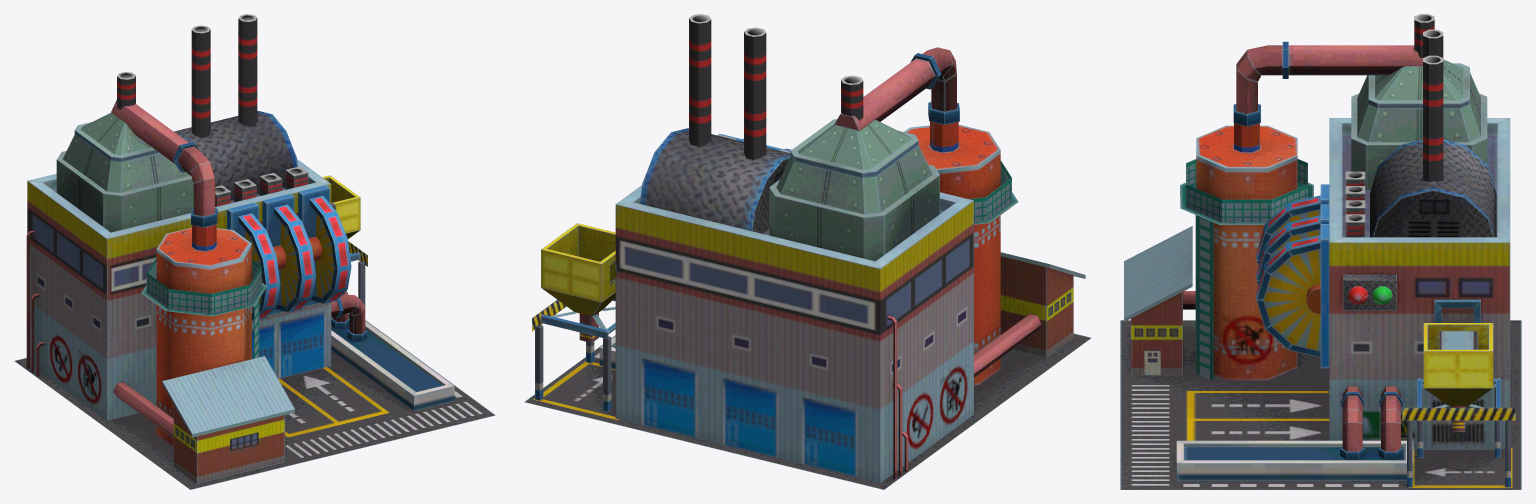
The model's file is shuinichang.FBX.
3 renders of one model, left to right at view 1: azimuth 30°, elevation 25°; view 2: azimuth 150°, elevation 25°; view 3: azimuth 270°, elevation 25°, orthographic. The views are drawn at different scales.
Parts seen in each view (by area): view 1: shuinichang; view 2: shuinichang; view 3: shuinichang.
Part boxes in pixels (x1,y1,x2,y2): shuinichang: (14,14,495,489); shuinichang: (524,14,1091,489); shuinichang: (1120,14,1521,489).
Bounding box in the file's own units: 2083 × 2112 × 2083.
